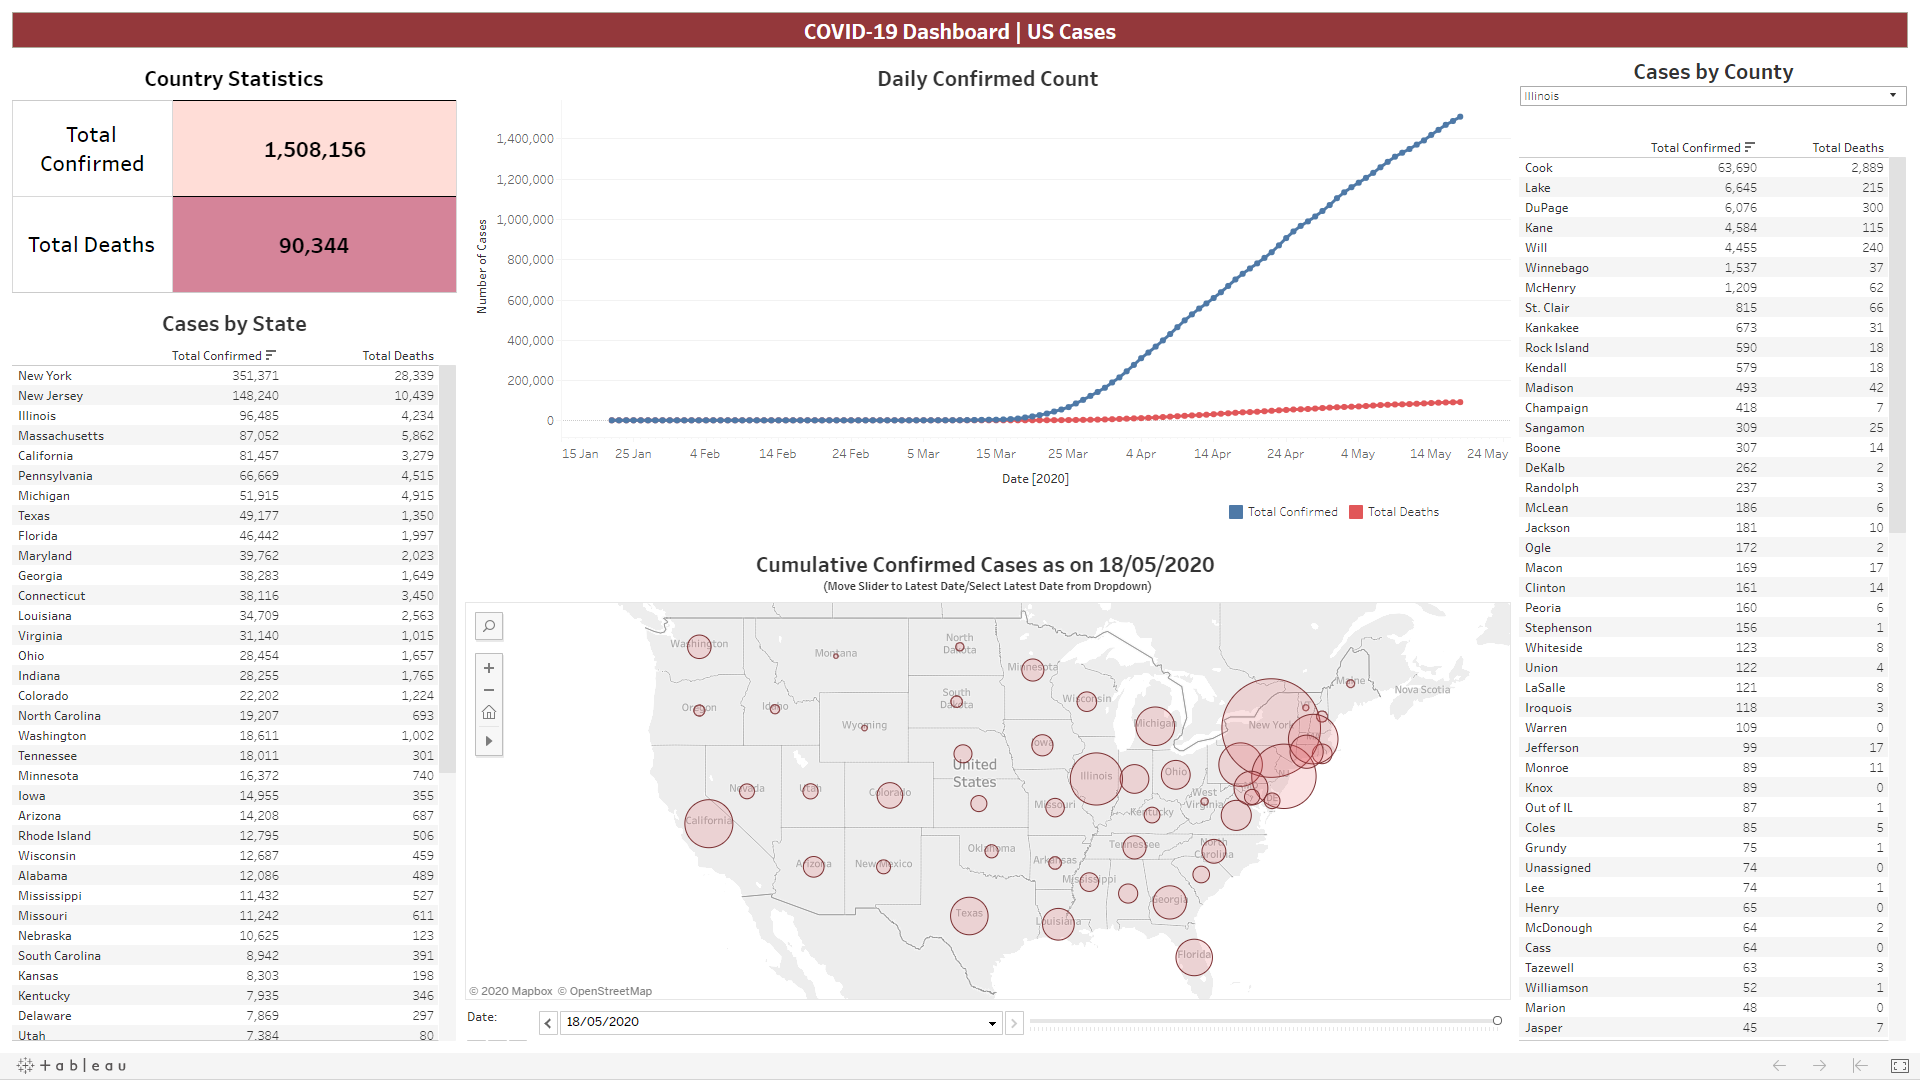

The dashboard page shown, as its layout file describes it:
{"tool":"powerbi","page":{"name":"Dashboard","canvas":[1280,720],"ordinal":0},"visuals":[{"type":"map","fields":{"Category":["StateDim.State"],"Size":["COVID measures.Total confirmed cases"],"Series":["COVID.Date.Variation.Date Hierarchy.Year"]},"box":[438.7,412.4,499.1,308.1],"z":0},{"type":"slicer","fields":{"Values":["COVID.State"]},"box":[669.7,0,610.3,151.1],"z":1000},{"type":"pivotTable","fields":{"Rows":["StateDim.State"],"Values":["COVID measures.Total confirmed cases","COVID measures.Total deaths","COVID measures.Case fatality rate"]},"box":[15.6,118.9,423.1,591.7],"z":2000},{"type":"slicer","fields":{"Values":["COVID.Date"]},"box":[438.7,7.8,239.8,118.9],"z":3000},{"type":"lineChart","fields":{"Category":["COVID.Date.Variation.Date Hierarchy.Month","COVID.Date.Variation.Date Hierarchy.Day"],"Y":["COVID measures.Confirmed cases","COVID measures.Deaths"]},"box":[437.7,151.1,500.1,284.7],"z":4000},{"type":"multiRowCard","fields":{"Values":["COVID measures.Total confirmed cases","COVID measures.Total deaths"]},"box":[15.6,20.5,414.3,98.5],"z":5000},{"type":"tableEx","fields":{"Values":["COVID.County Name","COVID measures.Total confirmed cases","COVID measures.Total deaths"]},"box":[937.8,151.1,342.2,569.3],"z":6000}]}

Visuals, with their boxes on the page's 1280x720 design canvas (x1, y1, x2, y2). These are canvas units, not pixel positions in the 1920x1080 screenshot, which may show the page scaled, cropped or inside an application window:
map - StateDim.State x COVID measures.Total confirmed cases: (x1=439, y1=412, x2=938, y2=720)
slicer - COVID.State: (x1=670, y1=0, x2=1280, y2=151)
pivotTable - StateDim.State x COVID measures.Total confirmed cases: (x1=16, y1=119, x2=439, y2=711)
slicer - COVID.Date: (x1=439, y1=8, x2=678, y2=127)
lineChart - COVID.Date.Variation.Date Hierarchy.Month x COVID.Date.Variation.Date Hierarchy.Day: (x1=438, y1=151, x2=938, y2=436)
multiRowCard - COVID measures.Total confirmed cases x COVID measures.Total deaths: (x1=16, y1=20, x2=430, y2=119)
tableEx - COVID.County Name x COVID measures.Total confirmed cases: (x1=938, y1=151, x2=1280, y2=720)
